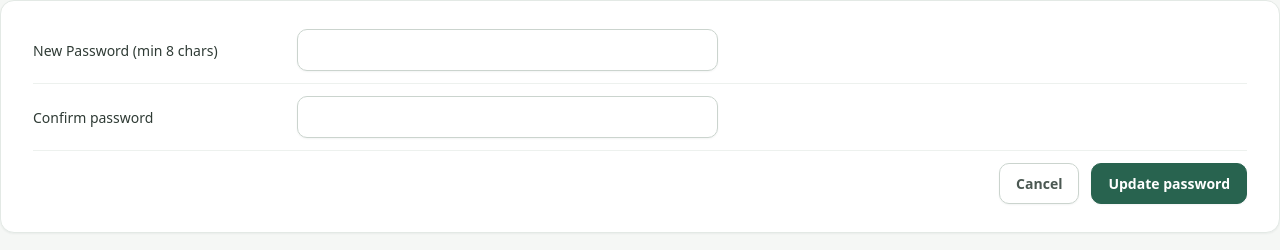
Test case: UpdatePasswordForm › shows required validation and does not update for an empty submission
The image size is (1280, 250).
What coordinates should you click on to do the following:
click the button "Update password"
I would click on:
 (1169, 184)
Its box is [1091,163,1247,204].
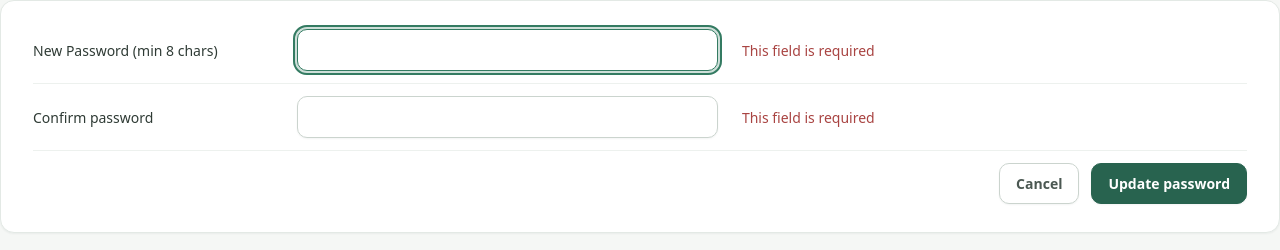
Expected: the text "This field is required" is shown 2 times, [742,40,875,60]; [742,108,875,126]
